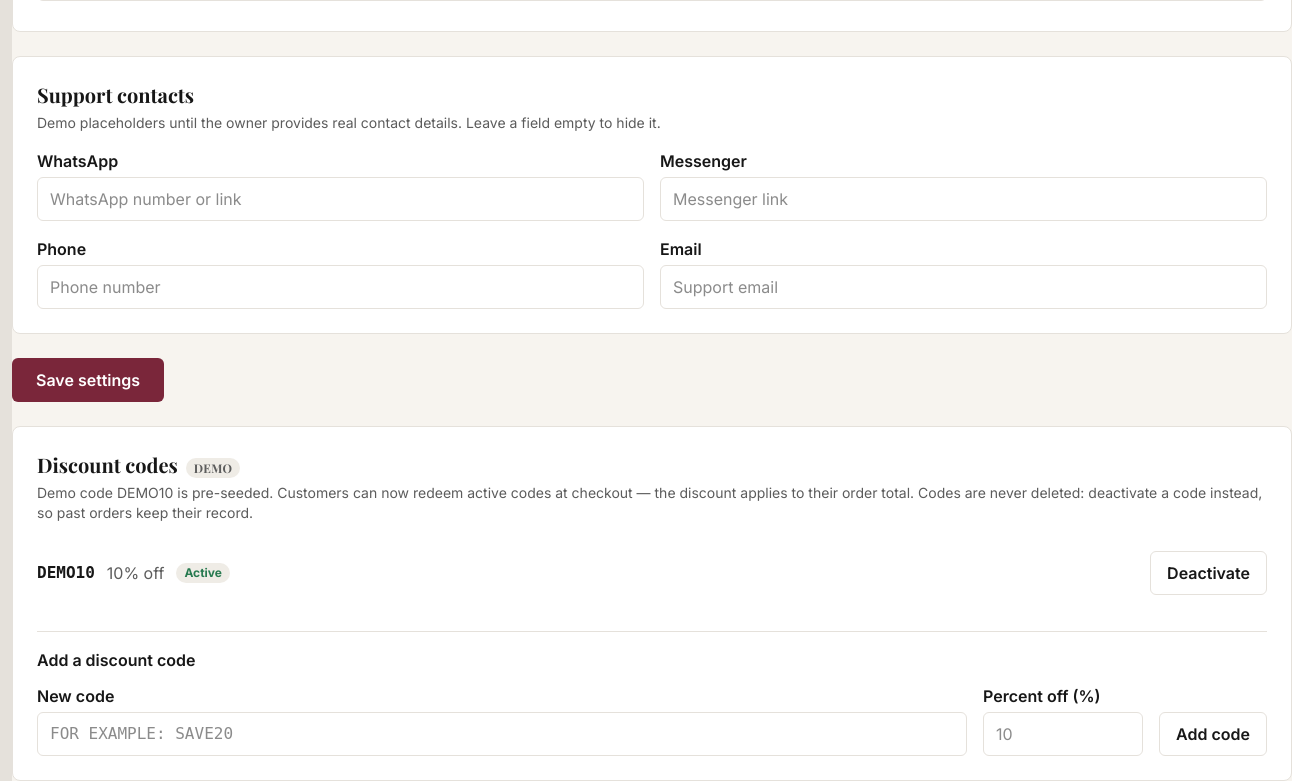
Scenario: SettingsForm › rejects a discount percent over 100
(page scrolled)
Type "SAVE20" into the field labelled "New code" at (502, 734), box [37, 712, 967, 756]
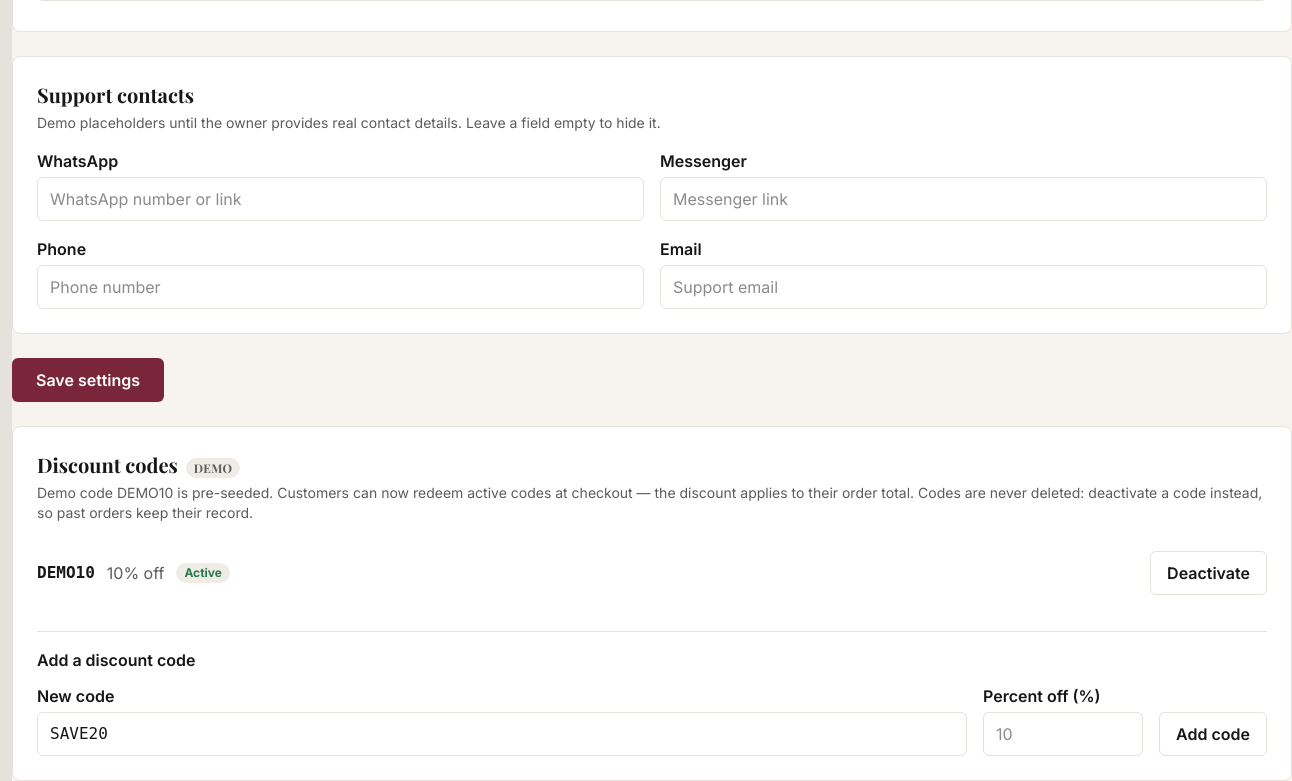
Type "150" into the number field labelled "Percent off (%)" at (1063, 734), box [983, 712, 1143, 756]
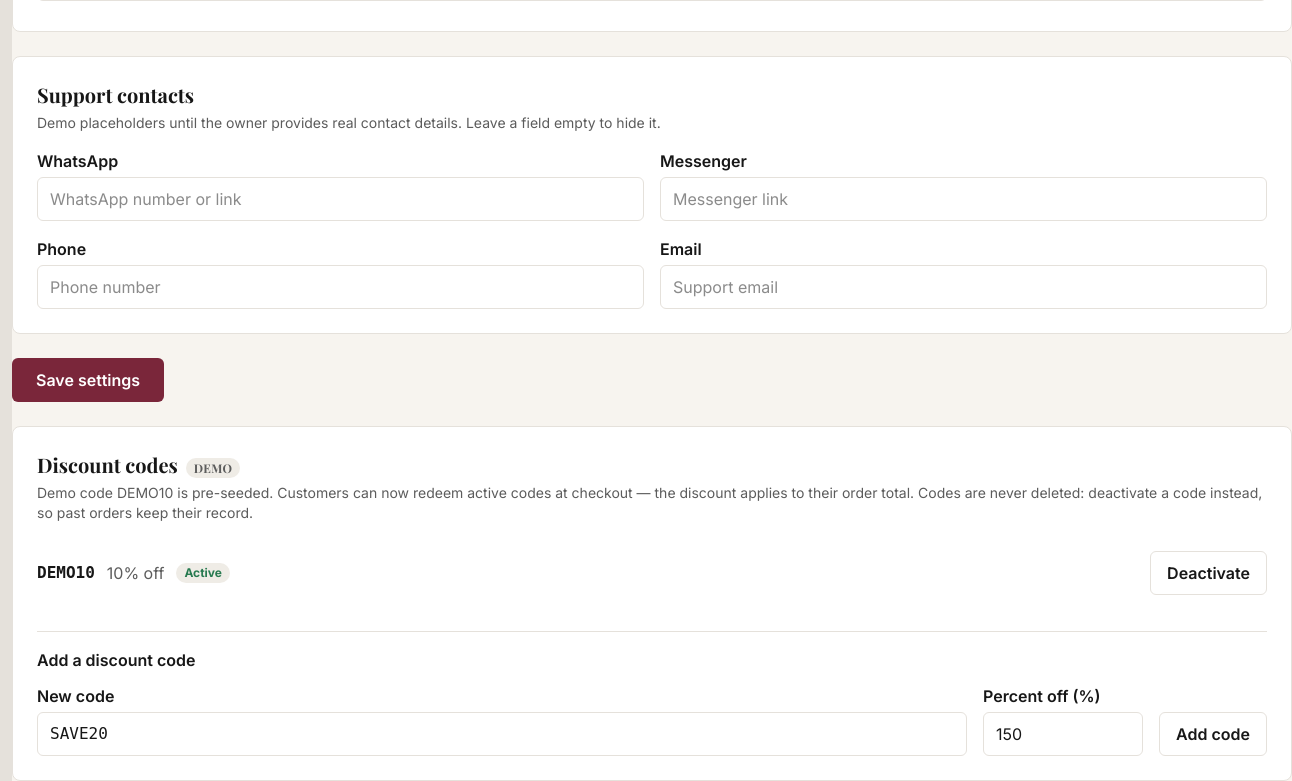
Click the button "Add code" at (1213, 734), box [1159, 712, 1267, 756]
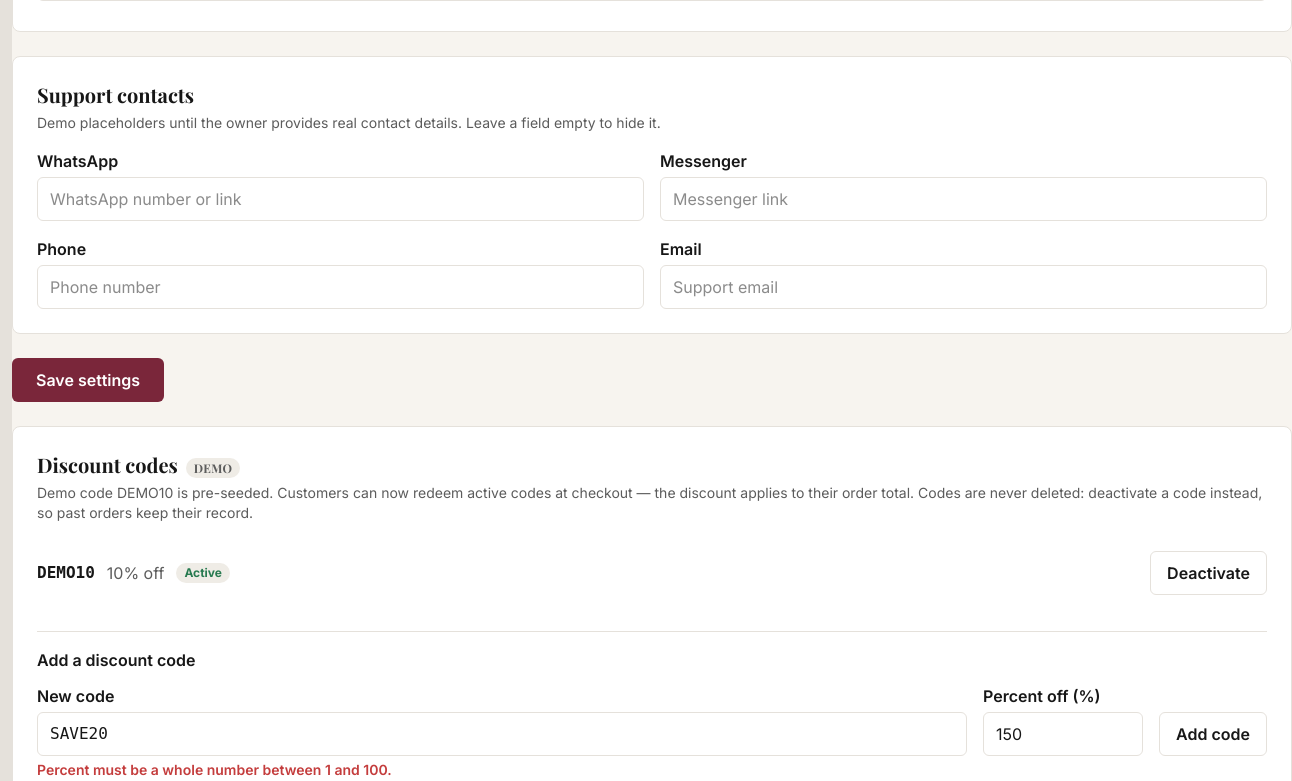
Check: the text "Percent must be a whole number between 1 and 100." is shown, box [37, 761, 392, 778]
